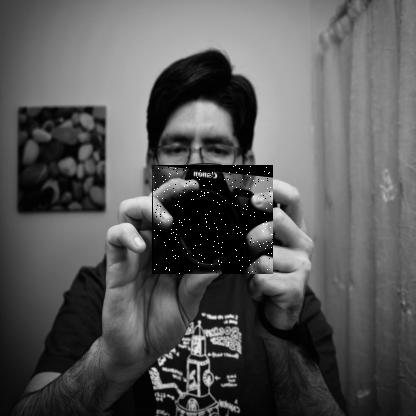Camera: (153, 166, 275, 276)
